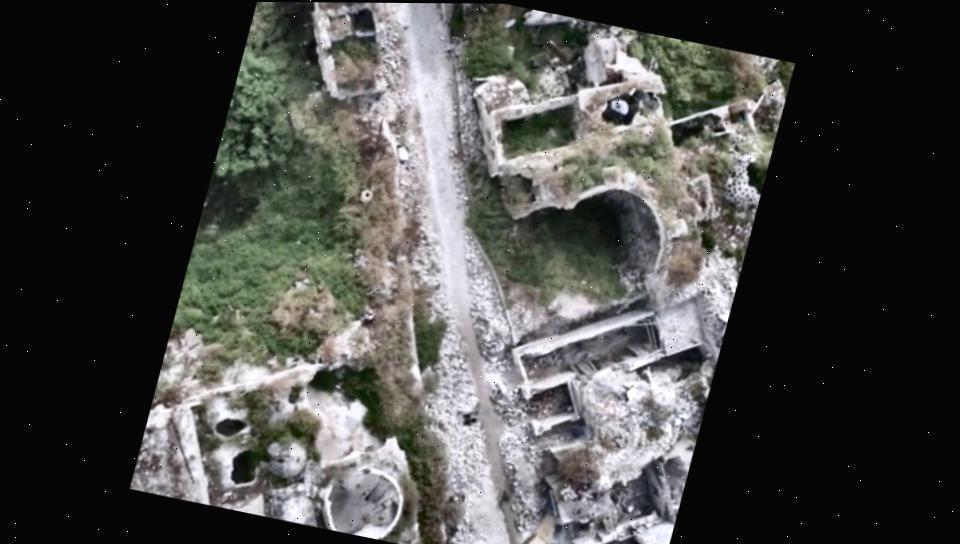kapali: (423, 227, 541, 544)
